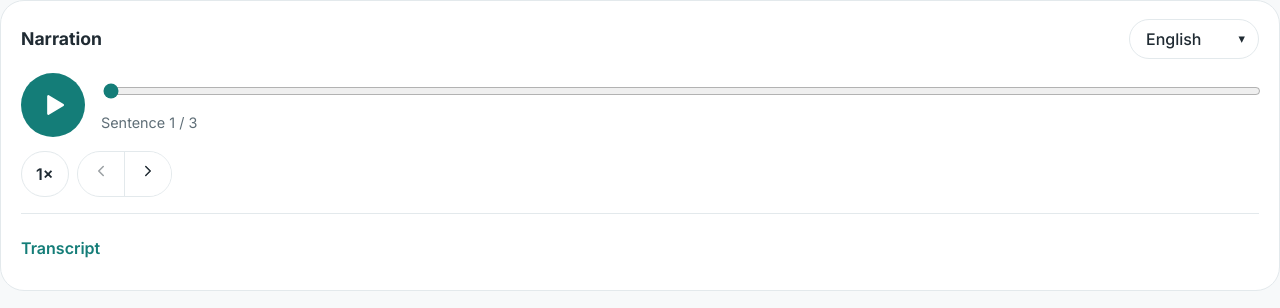
it: NarrationPlayer › speaks sentence by sentence with the matching voice
This screenshot has width=1280, height=308.
Click the button named "Play narration" at (53,105), box [21,73,85,137]
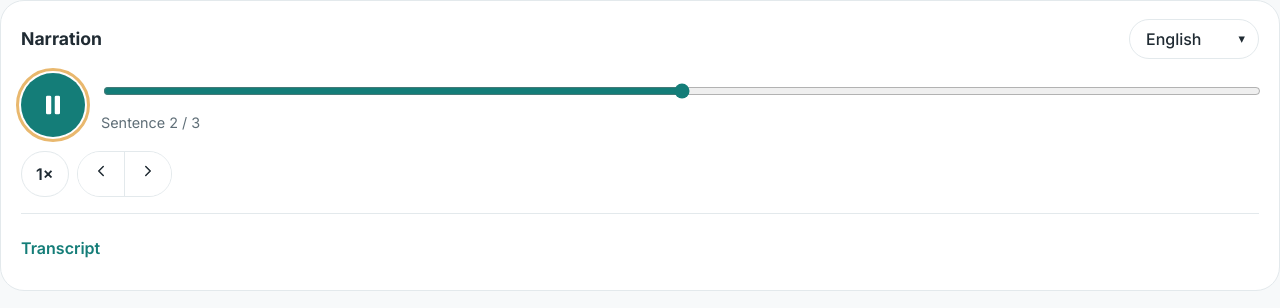
Expected: the text "Sentence 2 / 3" is shown, [101,114,200,131]
